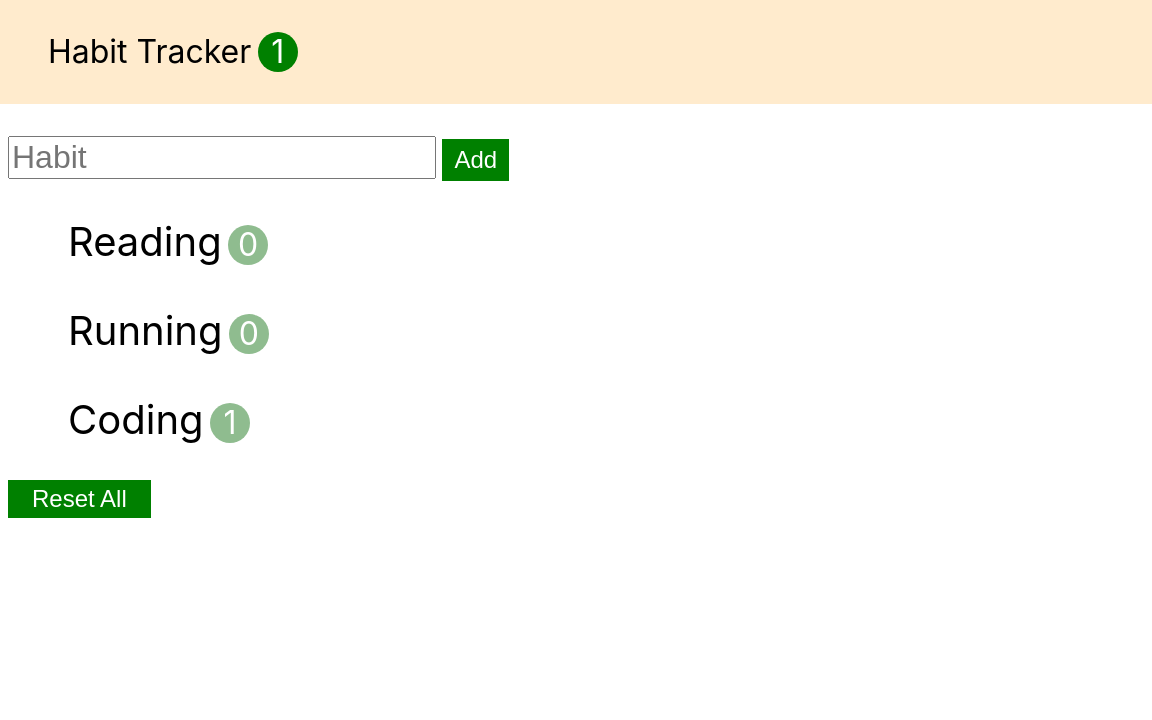
App › Component › resets all counters
The width and height of the screenshot is (1152, 720).
Click the button "Reset All" at [79, 499], box [8,480,151,518]
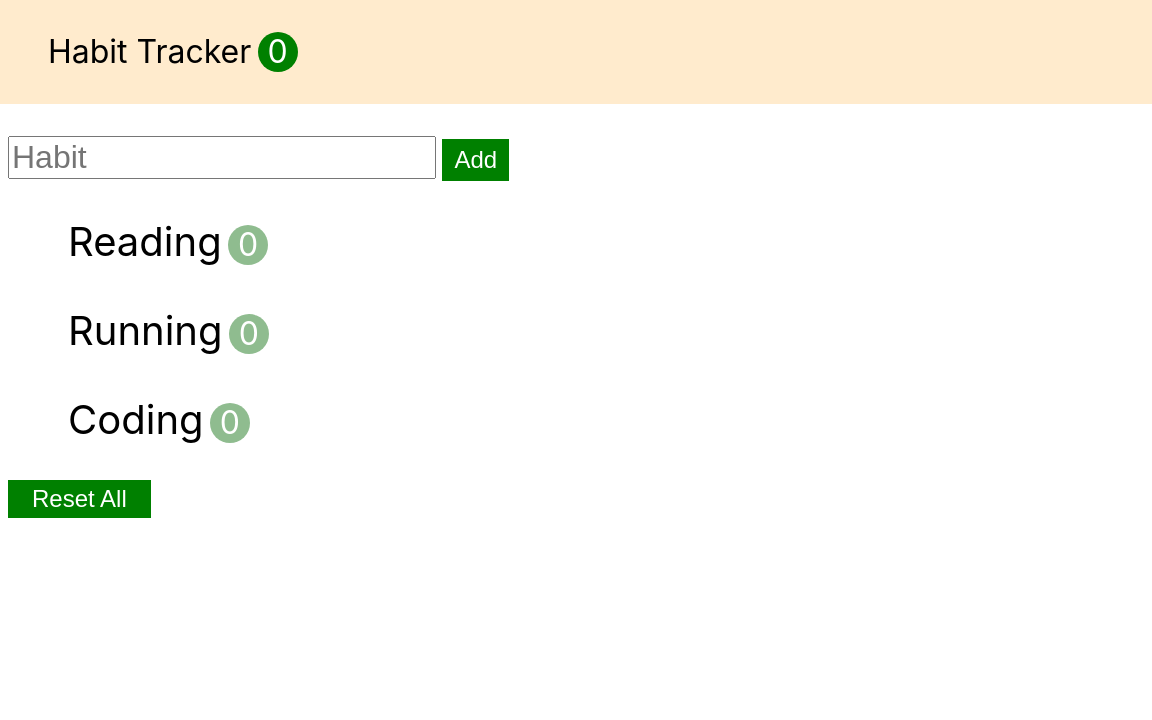
Expected: the text with test id "habit-count" next to "Reading" reads "0", [238,225,258,264]
Expected: the text with test id "habit-count" next to "Coding" reads "0", [220,403,240,442]
